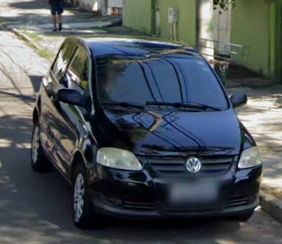car: (31, 36, 264, 234)
